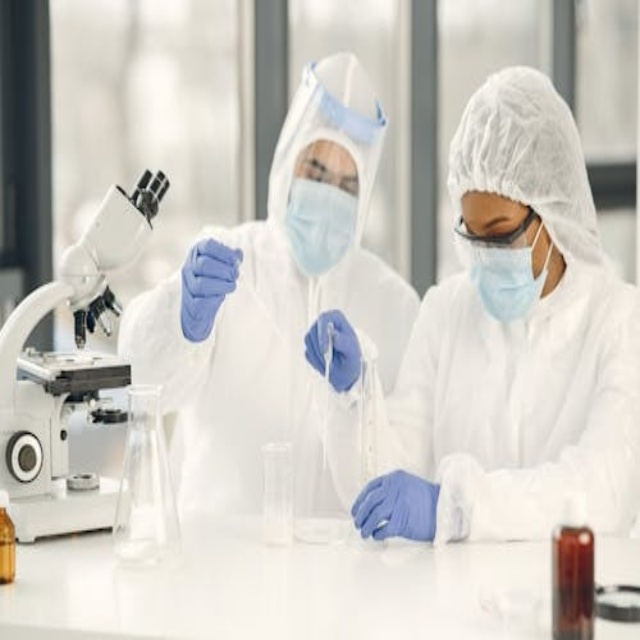Gafas: (452, 200, 541, 265)
Guantes: (179, 237, 244, 344), (352, 469, 441, 544), (303, 309, 363, 395)
Mascara: (462, 216, 551, 325), (285, 175, 358, 278)
Sin_gafas: (301, 154, 358, 198)
